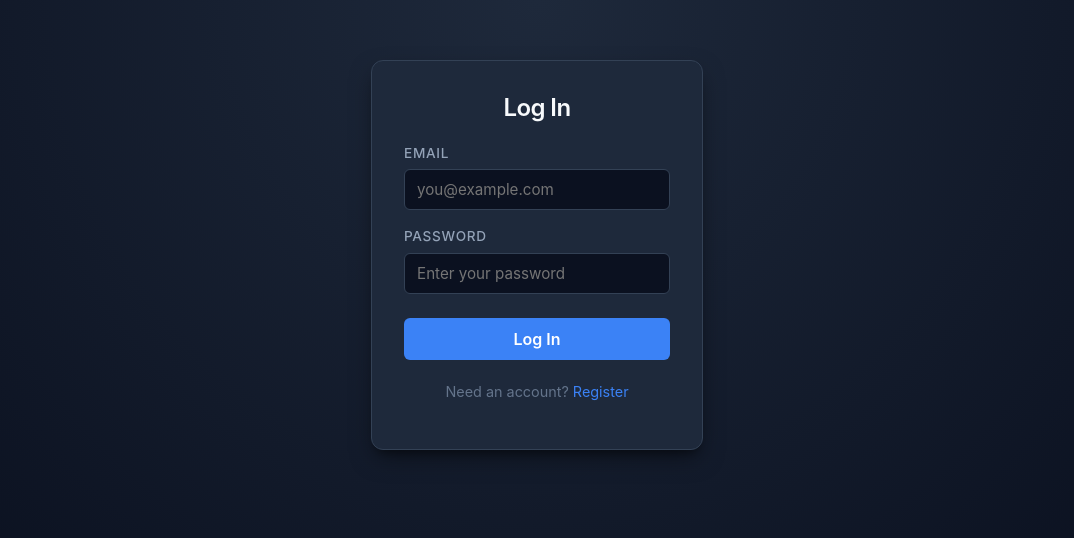
LoginPage › submitting an empty login shows Email is required and Password is required
Note: Click the submit button without typing anything
Click the button "Log In".
click(537, 339)  # box [404,318,670,360]
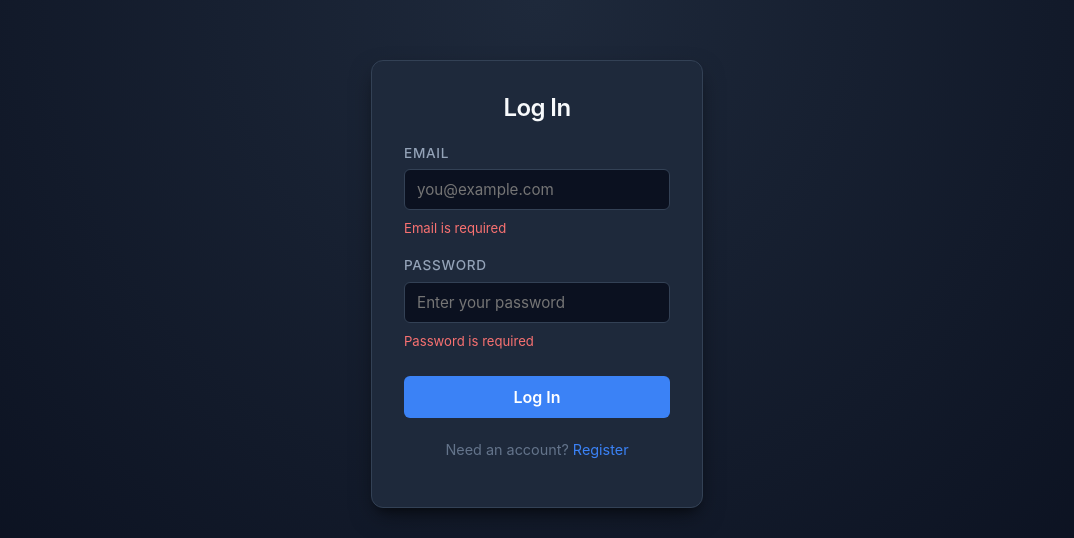
Now the text "Email is required" is shown, box [404,220,506,236]
Now the text "Password is required" is shown, box [404,333,534,349]
